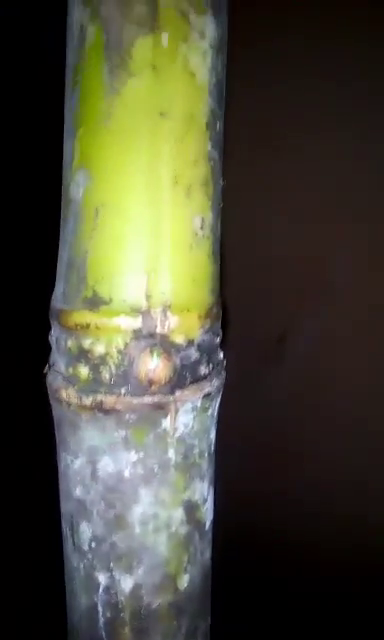cane eye: (126, 338, 184, 396)
